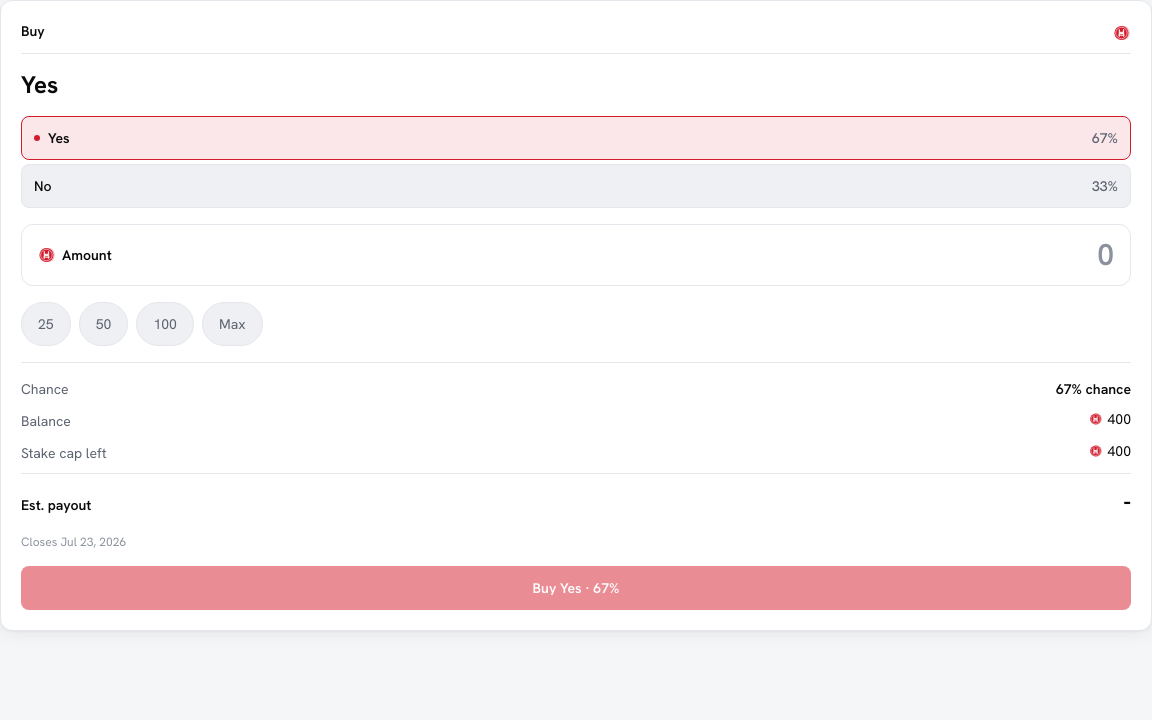
Test: OrderPanel › quick-fills amounts, with Max capped by cap remaining and balance
The image size is (1152, 720).
Click the button "50".
click(104, 324)  # box [79,302,128,346]
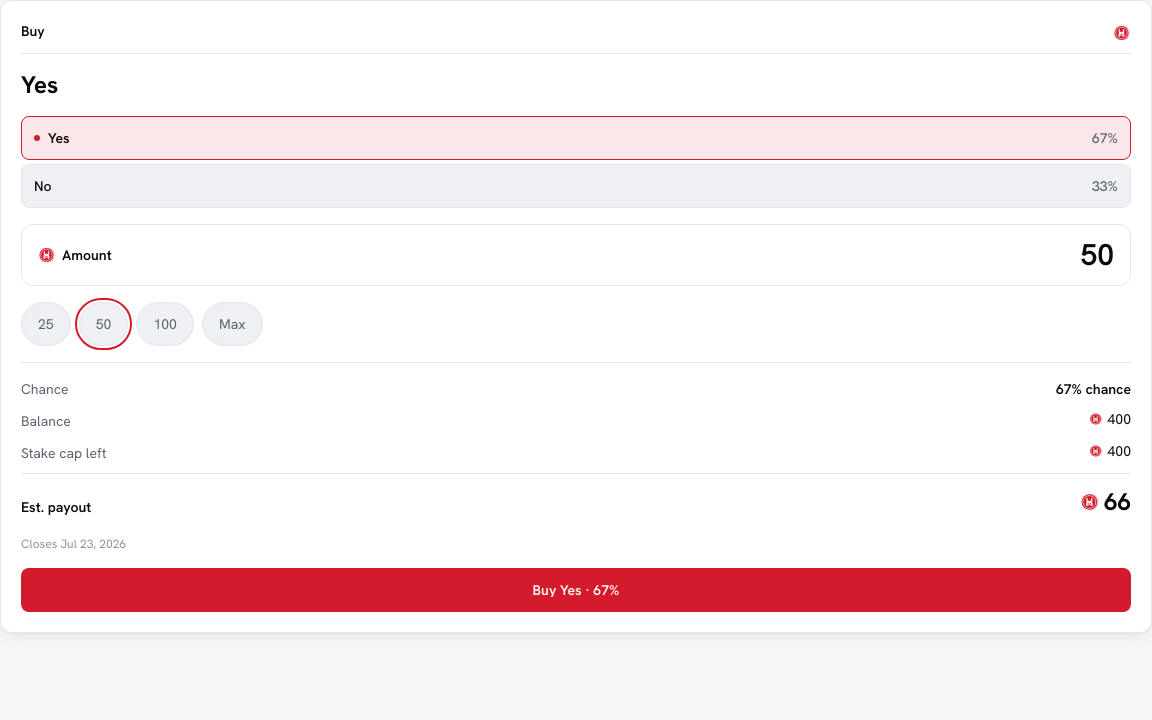
Check: the number field labelled "Amount" holds "50", box [124,237,1114,273]
Click the button "Max".
click(232, 324)  # box [202,302,262,346]
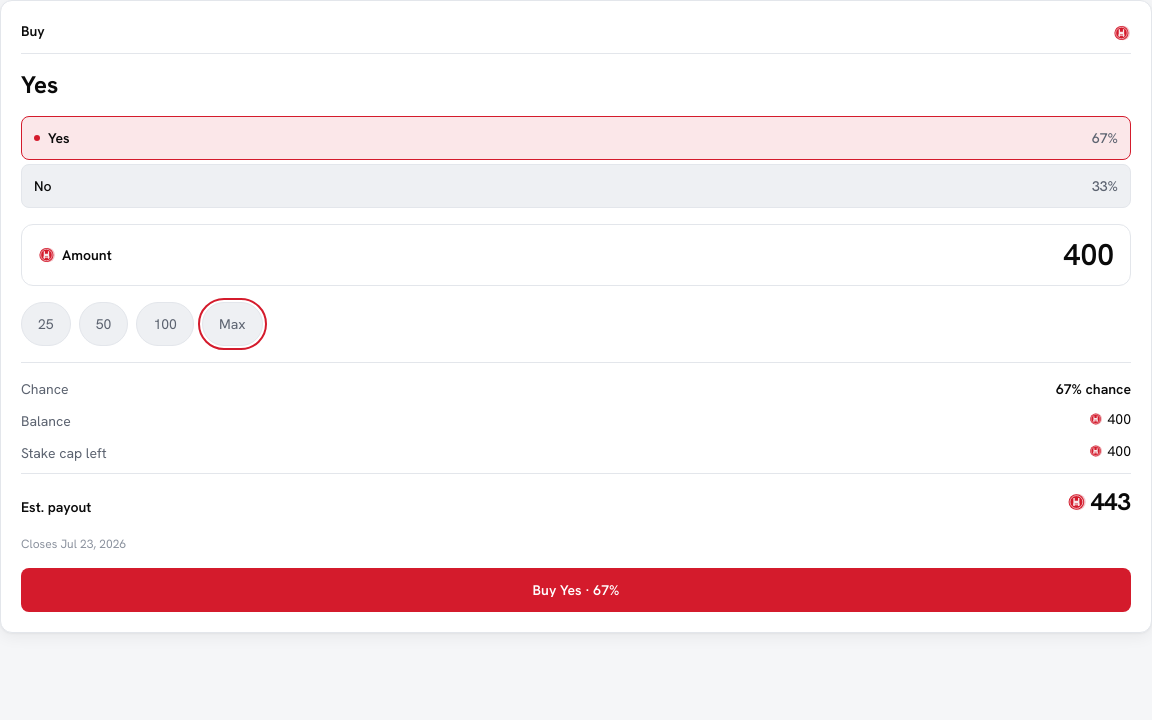
Check: the number field labelled "Amount" holds "400", box [124,237,1114,273]
